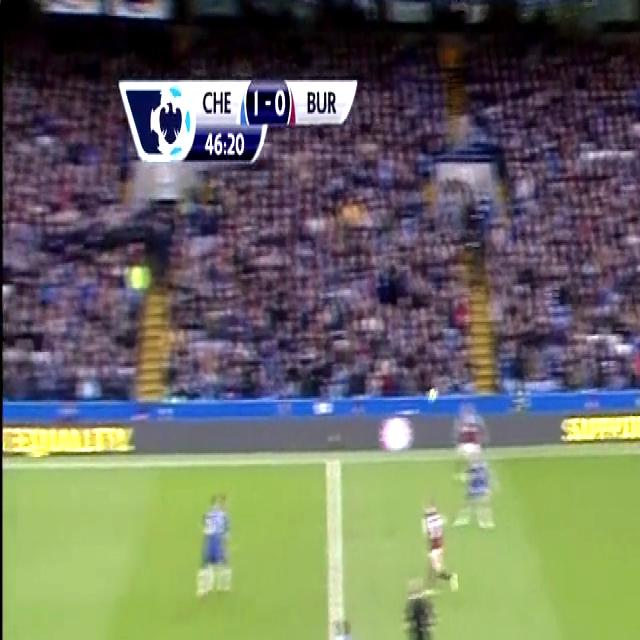referee: (399, 565, 440, 640)
soccer-player: (190, 478, 236, 610), (416, 488, 462, 600), (458, 434, 499, 548), (450, 388, 488, 489), (325, 599, 364, 640)
